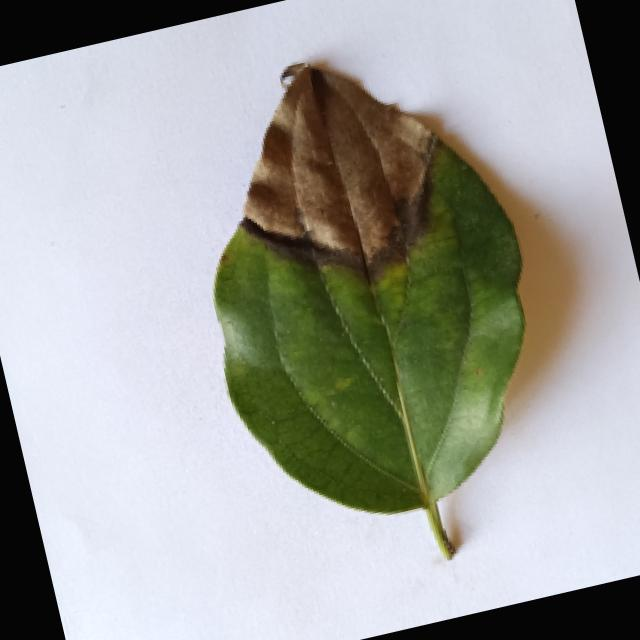footrot: (149, 21, 610, 600)
